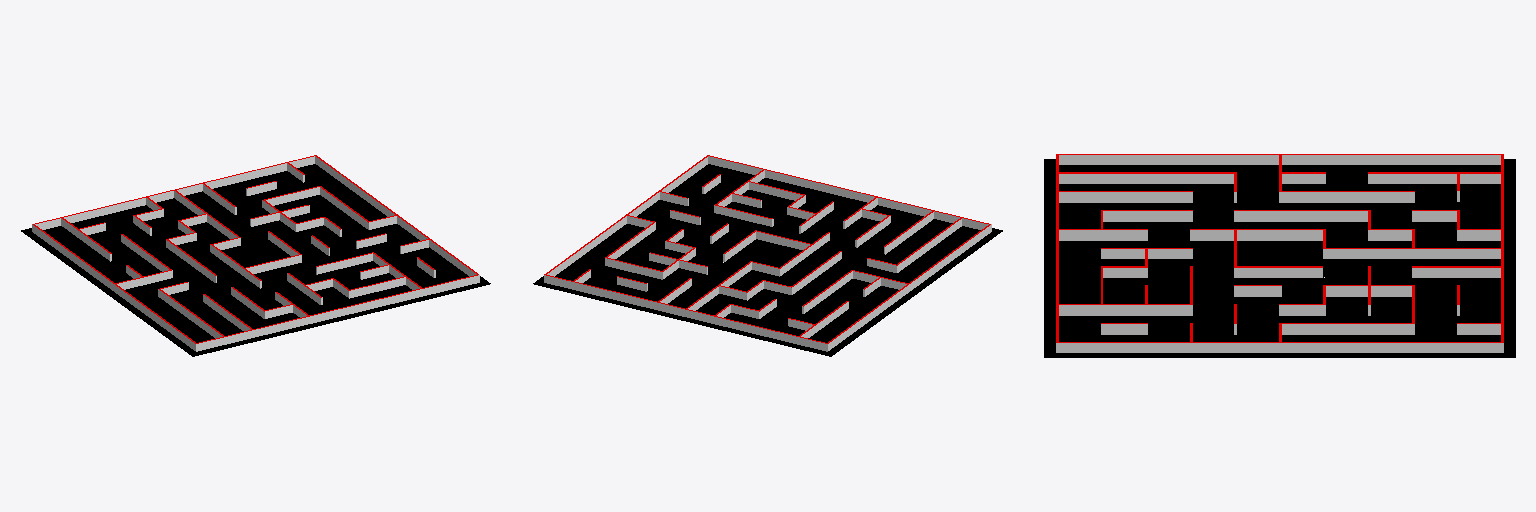
URDF robot description (minus_maze):
<?xml version="1.0"?>
<robot name="minus_maze">

	<link name="minus/base_link">
		<inertial>
			<origin xyz="0.0 0.0 0.0" rpy="0.0 0.0 0.0"/>
			<mass value="1.0"/>
			<inertia ixx="0.0" ixy="0.0" ixz="0.0" iyy="0.0" iyz="0.0" izz="0.0"/>
		</inertial>
		<visual name="">
			<origin xyz="0.0 0.0 0.0" rpy="0.0 0.0 0.0"/>
			<geometry>
				<mesh filename="package://doogie_description/mazes/minus_visual_v2.dae"/>
			</geometry>
		</visual>
		<collision>
			<origin xyz="0.0 0.0 0.0" rpy="0.0 0.0 0.0"/>
			<geometry>
				<mesh filename="package://doogie_description/mazes/minus_collision.dae"/>
			</geometry>
		</collision>
	</link>

</robot>

--- What the picture shows (computed from the rendered views, not written in the file) ---
3 views of the same robot in one strip: view 1: azimuth 30°, elevation 25°; view 2: azimuth 150°, elevation 25°; view 3: azimuth 270°, elevation 25° (orthographic).
Robot: minus_maze — 1 links, 0 joints (none); root link minus/base_link; default pose: all joints at 0.
Links seen in each view (by area): view 1: minus/base_link; view 2: minus/base_link; view 3: minus/base_link.
Boxes of the visible links, <box> form: minus/base_link: <box>21,155,490,356</box>; minus/base_link: <box>533,155,1002,356</box>; minus/base_link: <box>1044,154,1515,357</box>.
Size in the robot's own frame: 2.03 by 2.03 by 0.051 metres.
1 mesh visuals loaded from 1 distinct referenced files (1 Collada DAE).